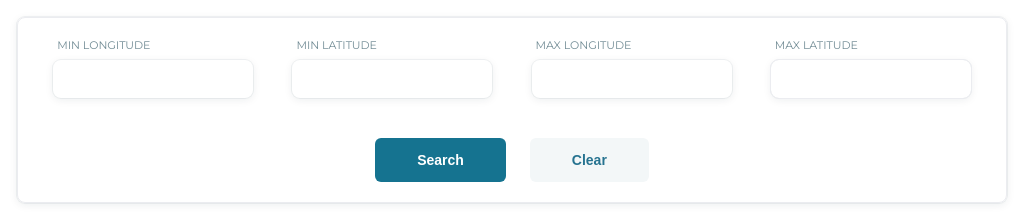
it: should display error if input values are out of range
Step 1. Type "-190.0" into the number field labelled "min longitude" → point(153, 79), box [53,60,253,98]
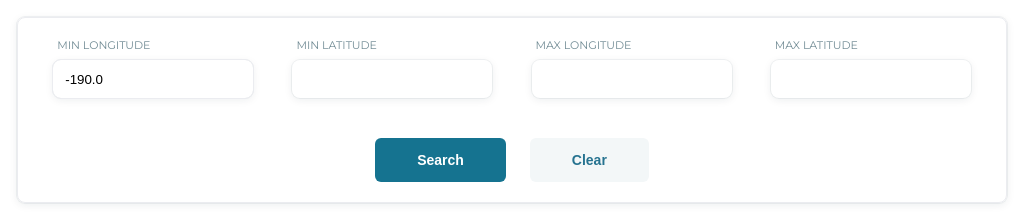
Step 2. Type "-100.0" into the number field labelled "min latitude" → point(392, 79), box [292,60,492,98]
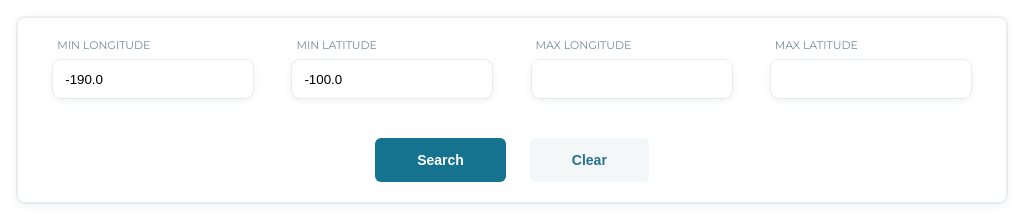
Step 3. Type "190.0" into the number field labelled "max longitude" → point(632, 79), box [532,60,732,98]
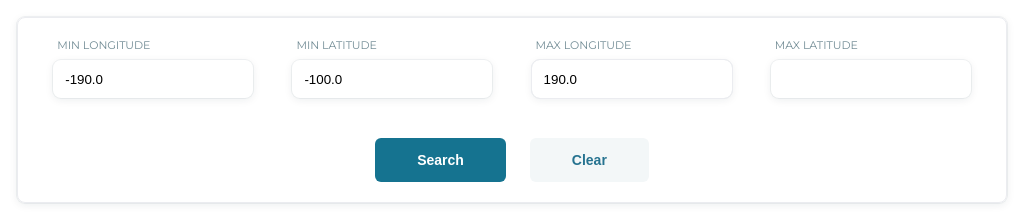
Step 4. Type "100.0" into the number field labelled "max latitude" → point(871, 79), box [771,60,971,98]
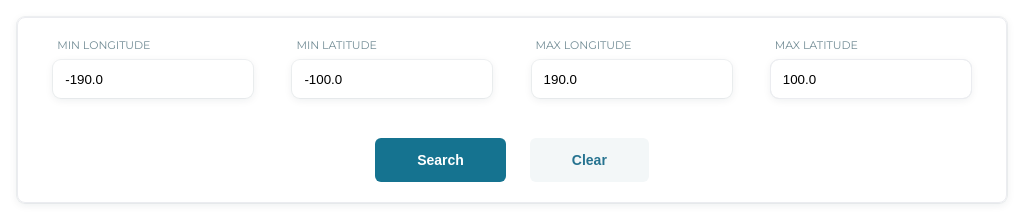
Step 5. Click the button "Search" → point(440, 160), box [375,138,506,182]
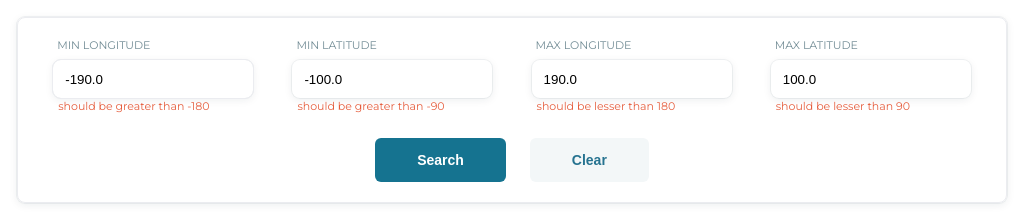
expect the text "should be greater than -90" is shown: met, box [297,99,445,113]
expect the text "should be greater than -180" is shown: met, box [58,99,210,113]
expect the text "should be lesser than 90" is shown: met, box [776,99,910,113]
